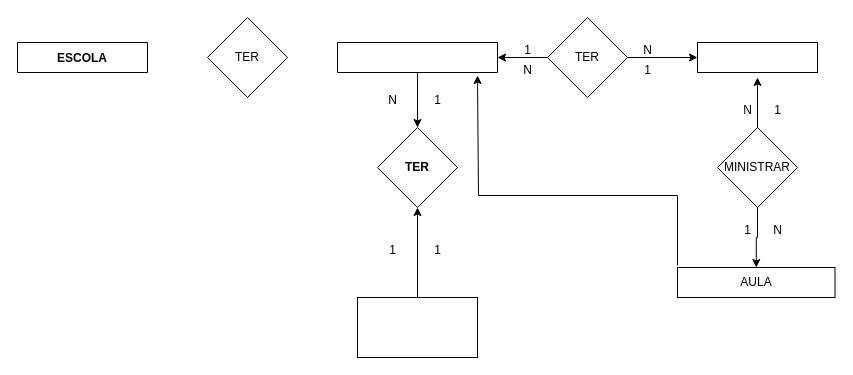
Some shapes in this 853 by 375 pixel diagram are drawn without their labels. Here are the shapes that lost their labels. From the top down, the centre of each, then its label:
At point (417, 57): "TURMAS".
At point (757, 57): "PROFESSORES".
At point (417, 327): "SALA".
